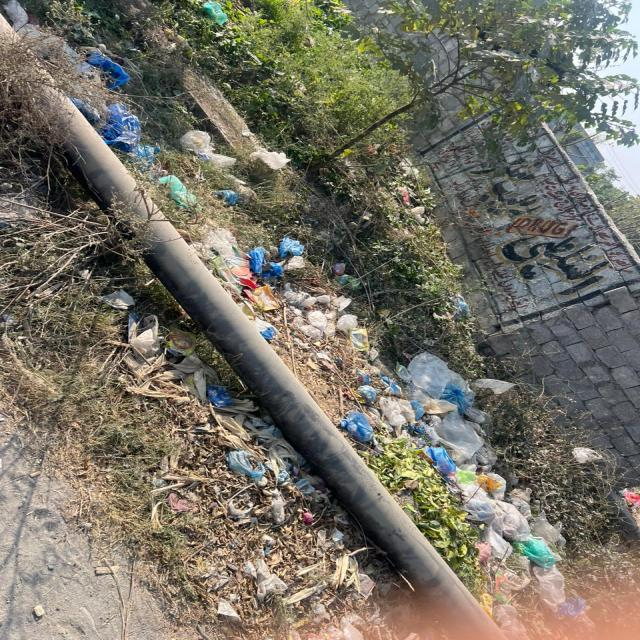garbage: (58, 81, 398, 378), (70, 295, 342, 576), (359, 350, 576, 583)
